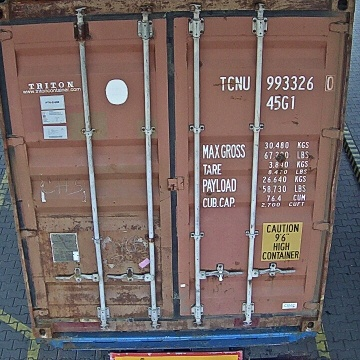serial_id: (220, 75, 336, 90)
